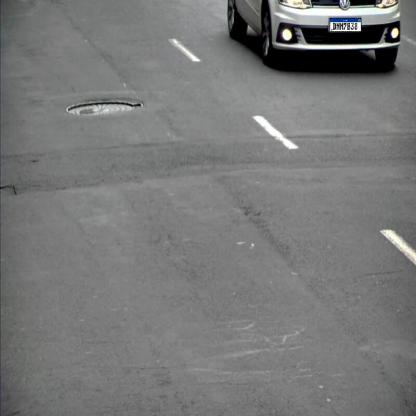PlacaM: (330, 18, 361, 32)
